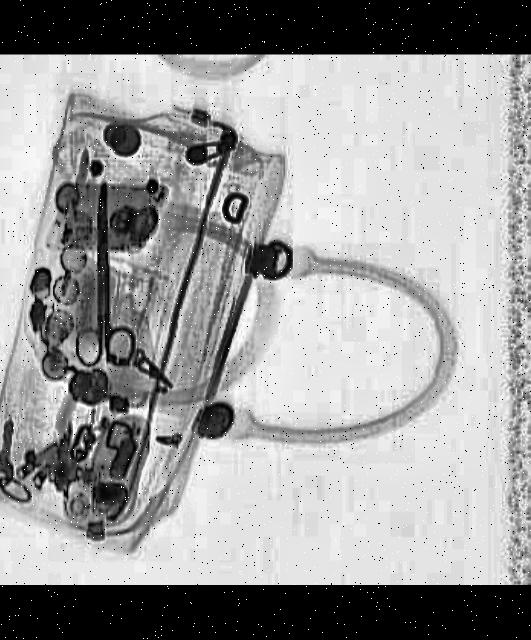Scissors: (73, 183, 138, 370)
